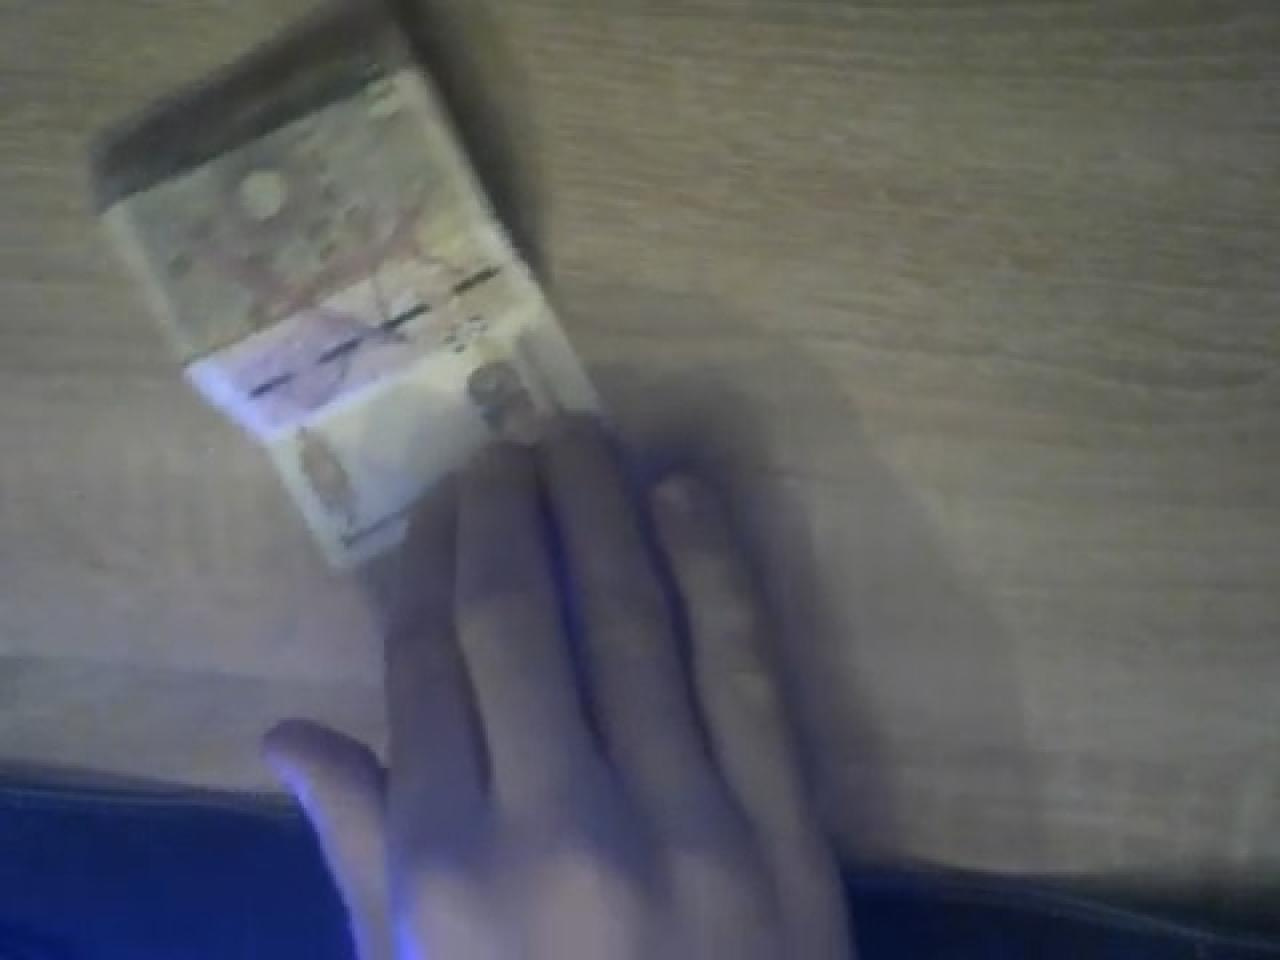10leva: (86, 0, 608, 571)
